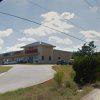Tree: (70, 29, 100, 100)
